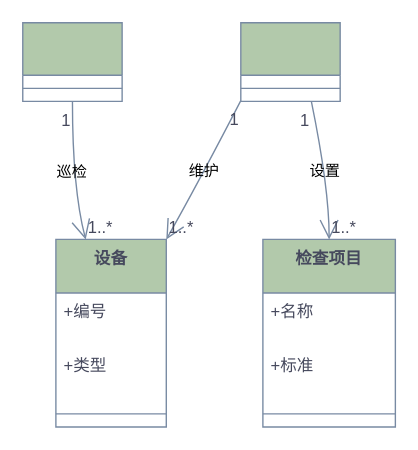
The diagram is 418 pixels wide and 450 high, and some of its shapes have lost their labels. The centre of each missing label's shape, as x and y in pixels:
值班员: point 71,61
管理员: point 289,61
